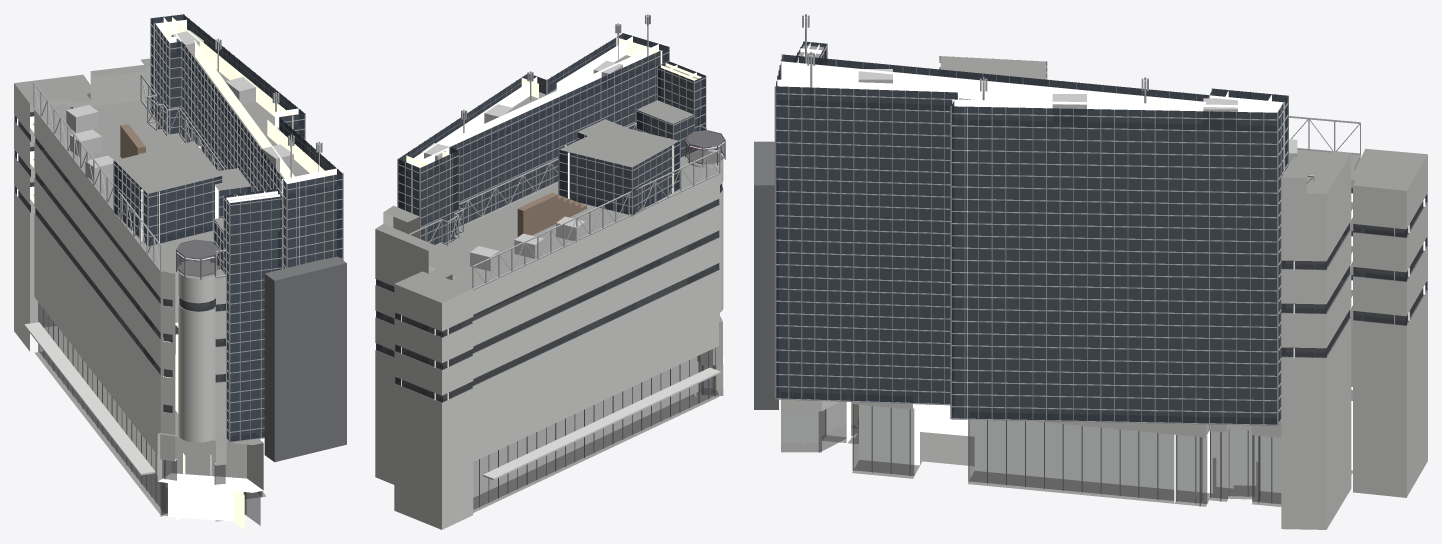
Rendered from magnet.glb.
The picture shows the model from 3 angles, left to right: view 1: azimuth 30°, elevation 25°; view 2: azimuth 150°, elevation 25°; view 3: azimuth 270°, elevation 25°; orthographic projection. The views are drawn at different scales.
Parts seen in each view (by area): view 1: compiled_exact_opaque_material_0, 03_TOWER_tower_glass, 04_SIGN_BOX_box_grey, compiled_exact_opaque_material_6, 03_TOWER_tower_mullion, compiled_exact_opaque_material_2, 02_DRUM_drum_panel, 01_WEST_WING_shop_glass, 06_ROOFTOP_steel, 01_WEST_WING_ribbon_glass, 06_ROOFTOP_plant, 05_PODIUM_canopy (+6 smaller); view 2: compiled_exact_opaque_material_0, 03_TOWER_tower_glass, compiled_exact_opaque_material_6, compiled_exact_opaque_material_2, 03_TOWER_tower_mullion, 01_WEST_WING_shop_glass, 01_WEST_WING_ribbon_glass, 06_ROOFTOP_steel, 01_WEST_WING_mullion, 05_PODIUM_canopy, 06_ROOFTOP_plant, 06_ROOFTOP_deck_wood (+4 smaller); view 3: 03_TOWER_tower_glass, compiled_exact_opaque_material_0, 03_TOWER_tower_mullion, compiled_exact_opaque_material_2, 01_WEST_WING_shop_glass, compiled_exact_opaque_material_6, 04_SIGN_BOX_box_grey, 01_WEST_WING_ribbon_glass, 01_WEST_WING_mullion, 05_PODIUM_shop_glass, 06_ROOFTOP_plant, 06_ROOFTOP_steel.
Part boxes in pixels (x1,y1,x2,y2): compiled_exact_opaque_material_0: (14, 67, 263, 490); 03_TOWER_tower_glass: (114, 14, 342, 441); 04_SIGN_BOX_box_grey: (264, 256, 346, 462); compiled_exact_opaque_material_6: (14, 57, 309, 521); 03_TOWER_tower_mullion: (113, 14, 343, 442); compiled_exact_opaque_material_2: (17, 17, 336, 529); 02_DRUM_drum_panel: (178, 271, 217, 442); 01_WEST_WING_shop_glass: (39, 304, 261, 513); 06_ROOFTOP_steel: (33, 38, 322, 277); 01_WEST_WING_ribbon_glass: (14, 107, 225, 413); 06_ROOFTOP_plant: (66, 30, 293, 182); 05_PODIUM_canopy: (24, 322, 155, 475); compiled_exact_opaque_material_0: (375, 174, 722, 529); 03_TOWER_tower_glass: (398, 33, 705, 244); compiled_exact_opaque_material_6: (376, 55, 722, 512); compiled_exact_opaque_material_2: (401, 36, 724, 497); 03_TOWER_tower_mullion: (397, 33, 706, 244); 01_WEST_WING_shop_glass: (473, 349, 715, 509); 01_WEST_WING_ribbon_glass: (376, 199, 718, 402); 06_ROOFTOP_steel: (409, 14, 720, 290); 01_WEST_WING_mullion: (375, 204, 719, 507); 05_PODIUM_canopy: (483, 367, 720, 480); 06_ROOFTOP_plant: (421, 60, 622, 271); 06_ROOFTOP_deck_wood: (517, 192, 586, 236); 03_TOWER_tower_glass: (776, 41, 1287, 424); compiled_exact_opaque_material_0: (781, 153, 1427, 529); 03_TOWER_tower_mullion: (774, 41, 1288, 425); compiled_exact_opaque_material_2: (777, 42, 1425, 503); 01_WEST_WING_shop_glass: (822, 390, 1352, 504); compiled_exact_opaque_material_6: (798, 45, 1427, 506); 04_SIGN_BOX_box_grey: (754, 141, 778, 409); 01_WEST_WING_ribbon_glass: (1281, 188, 1427, 357); 01_WEST_WING_mullion: (852, 187, 1427, 506); 05_PODIUM_shop_glass: (781, 401, 858, 452); 06_ROOFTOP_plant: (858, 69, 1297, 163); 06_ROOFTOP_steel: (802, 14, 1360, 183).
Bounding box in the file's own units: 27.01 × 47.37 × 62.52.
